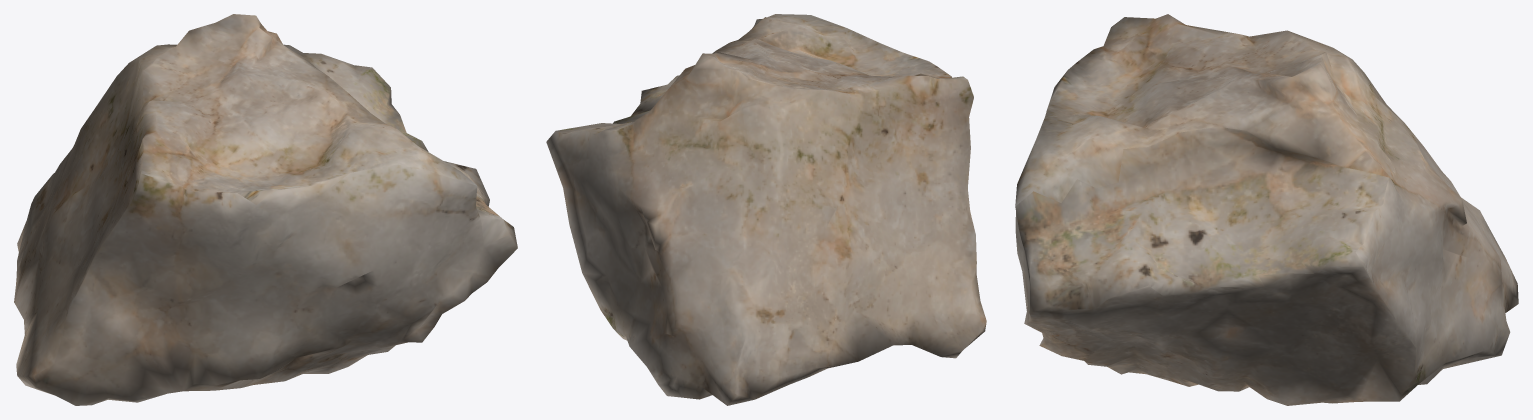
Rendered from aggregate-e.fbx.
3 views of the same model, side by side, from view 1: azimuth 30°, elevation 25°; view 2: azimuth 150°, elevation 25°; view 3: azimuth 270°, elevation 25° (orthographic). The views are drawn at different scales.
Visible parts, largest first — view 1: aggregate-e; view 2: aggregate-e; view 3: aggregate-e.
Boxes of the visible parts, x1,y1,x2,y2 form: aggregate-e: (14, 14, 517, 405); aggregate-e: (546, 14, 986, 405); aggregate-e: (1015, 14, 1518, 405).
Bounding box in the file's own units: 11.05 × 7.67 × 11.18.
Materials: 1 (1 with a texture image).
